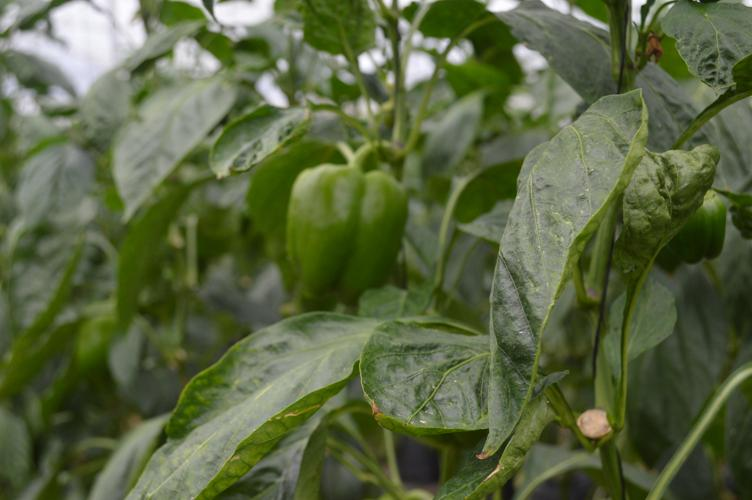BellPepper: (285, 166, 416, 296), (649, 194, 730, 269)
